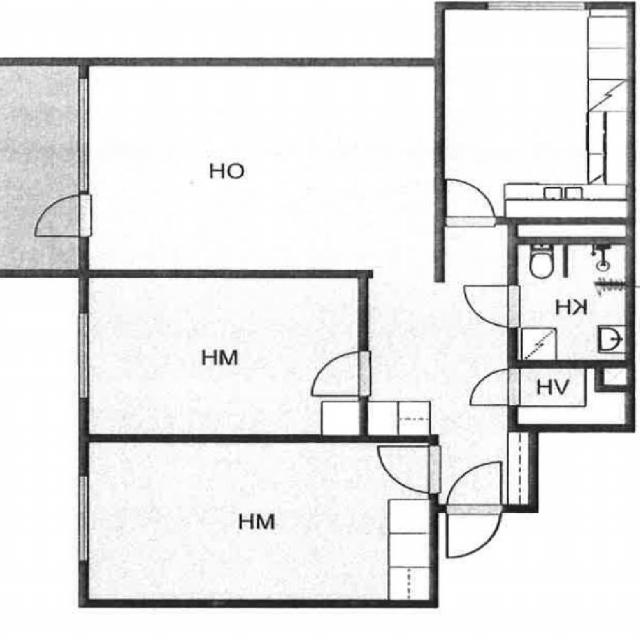door: (447, 504, 501, 560), (447, 458, 501, 512), (376, 447, 438, 492), (308, 352, 367, 396), (460, 286, 518, 326), (446, 176, 494, 224), (33, 196, 89, 236), (467, 370, 518, 405)
